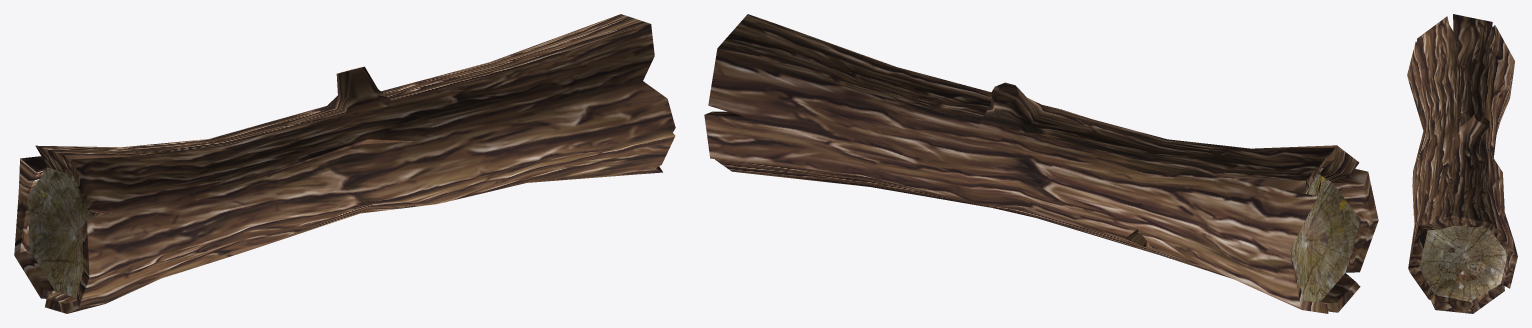
File: tree_trunk_1.obj
3 renders of one model, left to right at view 1: azimuth 30°, elevation 25°; view 2: azimuth 150°, elevation 25°; view 3: azimuth 270°, elevation 25°, orthographic. The views are drawn at different scales.
Visible parts, largest first — view 1: Trees_pack; view 2: Trees_pack; view 3: Trees_pack.
Part boxes in pixels (x1=…): Trees_pack: x1=14, y1=14, x2=675, y2=313; Trees_pack: x1=704, y1=14, x2=1378, y2=313; Trees_pack: x1=1407, y1=14, x2=1517, y2=313.
Bounding box in the file's own units: 3.27 × 0.8147 × 0.773.
